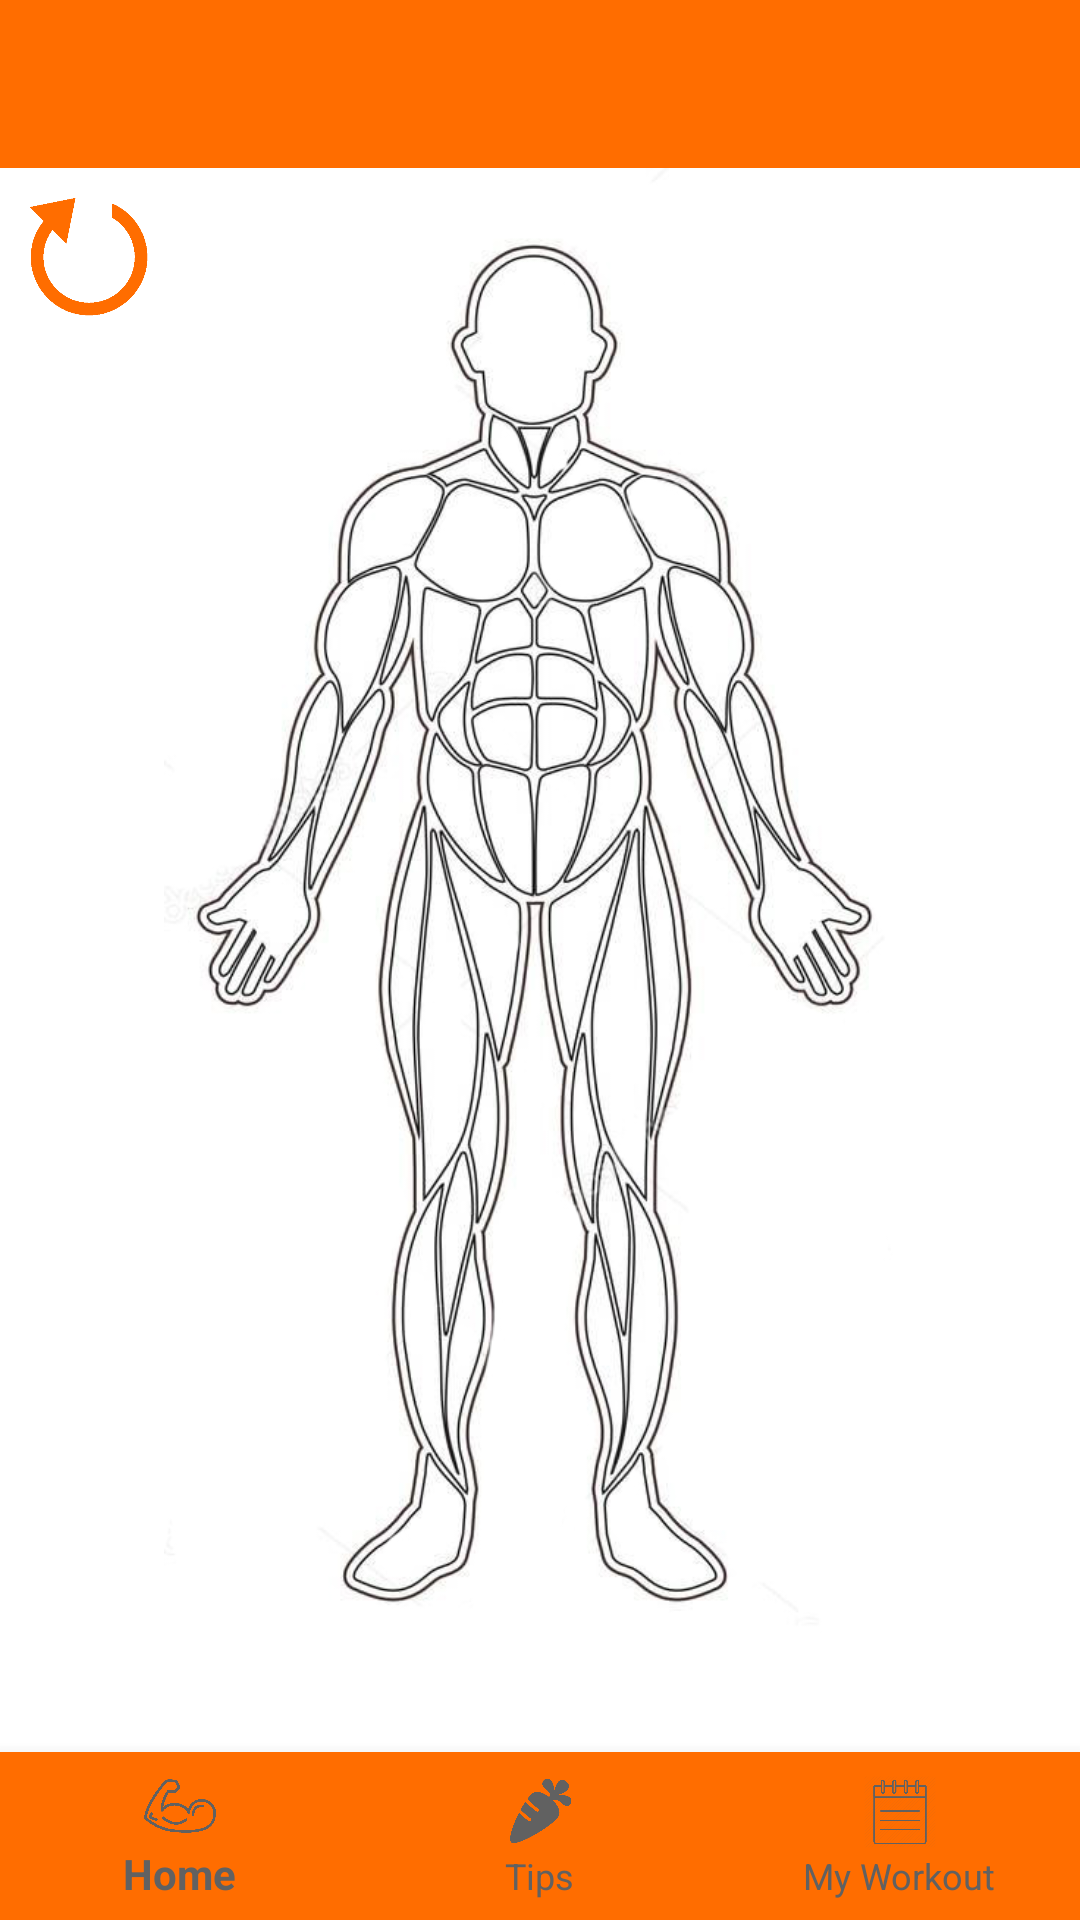

Icon bounding boxes for this 1080px×1920px phone screenshot, format (x1, y1, x2, y2):
turn: (30, 198, 148, 316)
